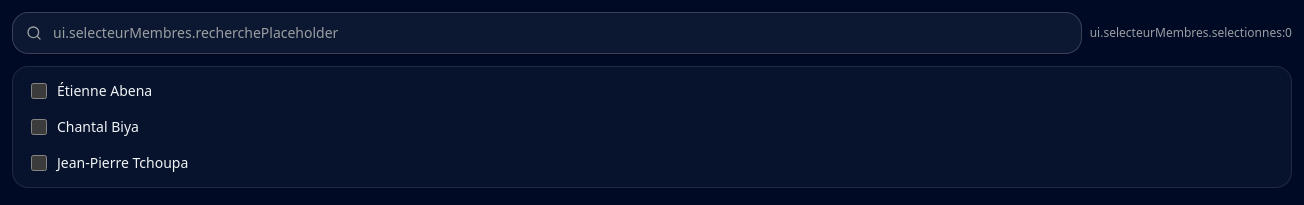
Test: SelecteurMembres — recherche › aucun résultat → message clair, pas de liste vide muette
Type "zzz" into the search field.
click(547, 33); type("zzz")  # box x1=12 y1=12 x2=1082 y2=54
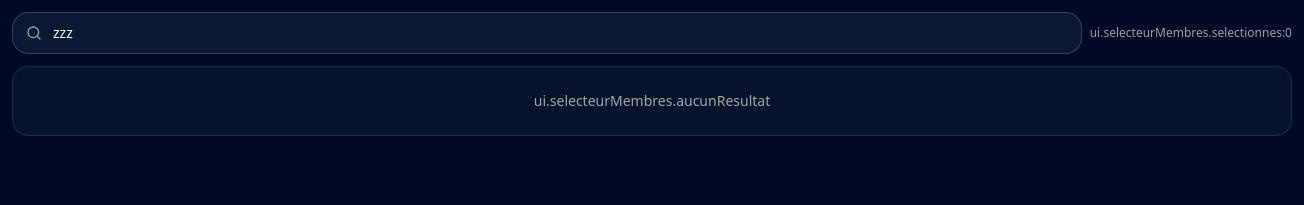
Now no checkboxes are shown
Now the text "ui.selecteurMembres.aucunResultat" is shown, box x1=12 y1=66 x2=1292 y2=136
